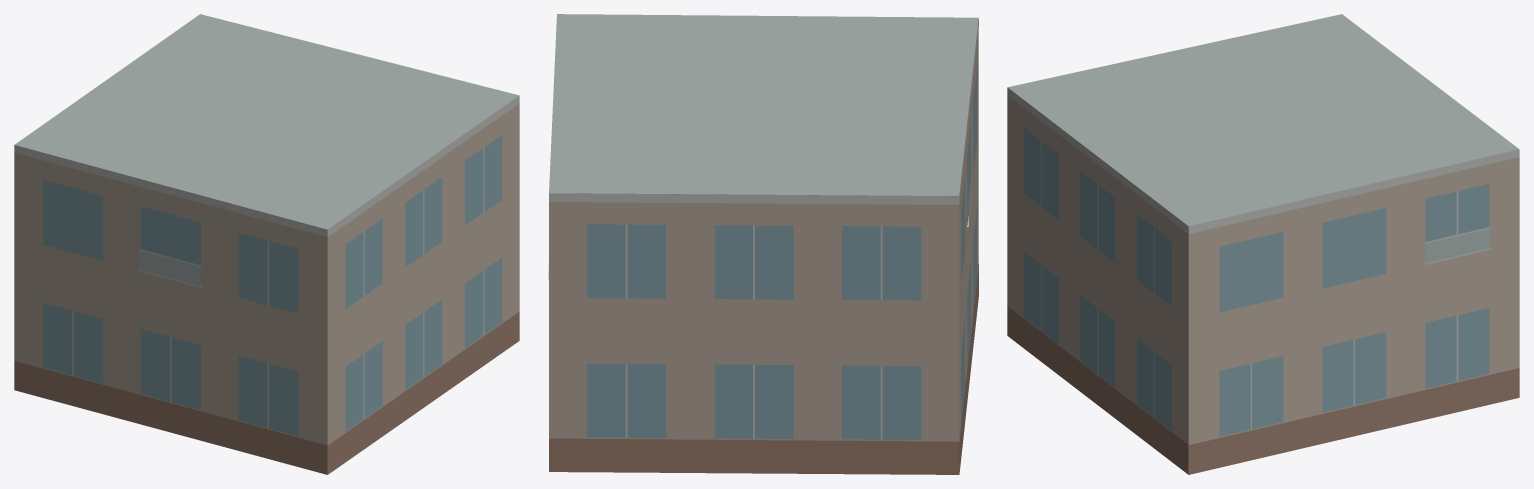
File: survey-upis-33035706.glb
The picture shows the model from 3 angles, left to right: view 1: azimuth 30°, elevation 25°; view 2: azimuth 150°, elevation 25°; view 3: azimuth 270°, elevation 25°; orthographic projection. The views are drawn at different scales.
Visible parts, largest first — view 1: survey-upis-33035706.tmp; view 2: survey-upis-33035706.tmp; view 3: survey-upis-33035706.tmp.
Part boxes in pixels (x1=…): survey-upis-33035706.tmp: x1=14, y1=14, x2=519, y2=474; survey-upis-33035706.tmp: x1=548, y1=14, x2=978, y2=474; survey-upis-33035706.tmp: x1=1007, y1=14, x2=1519, y2=474.
Size of the model in its own units: 14.31 by 7.8 by 14.58.
